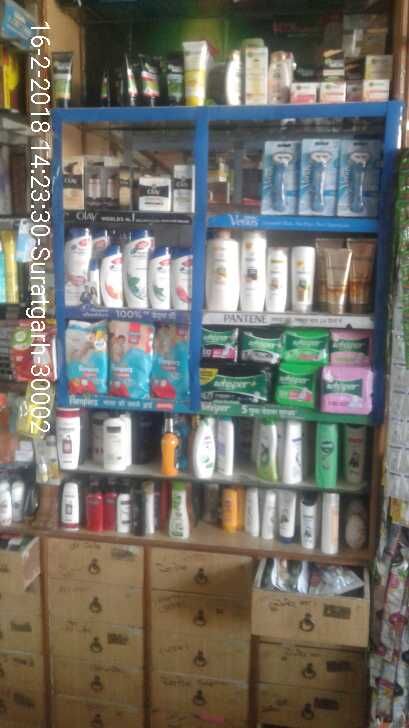venus: (343, 137, 381, 218), (301, 144, 343, 217), (263, 144, 301, 213)
